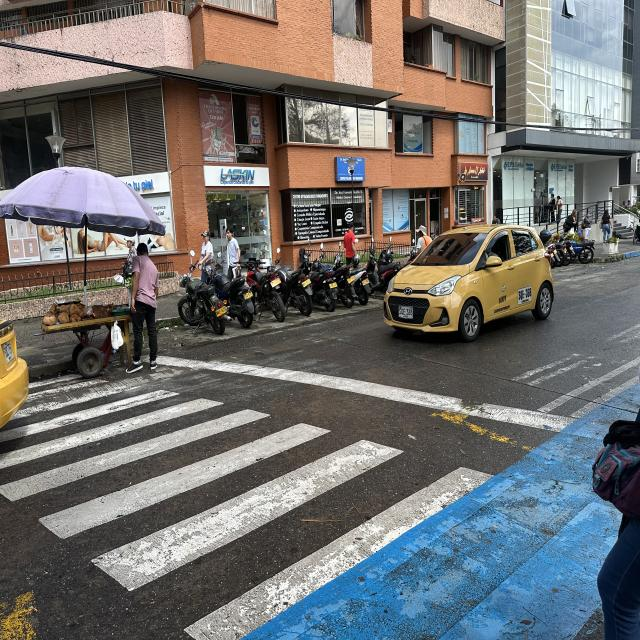number plate: (398, 306, 413, 319)
